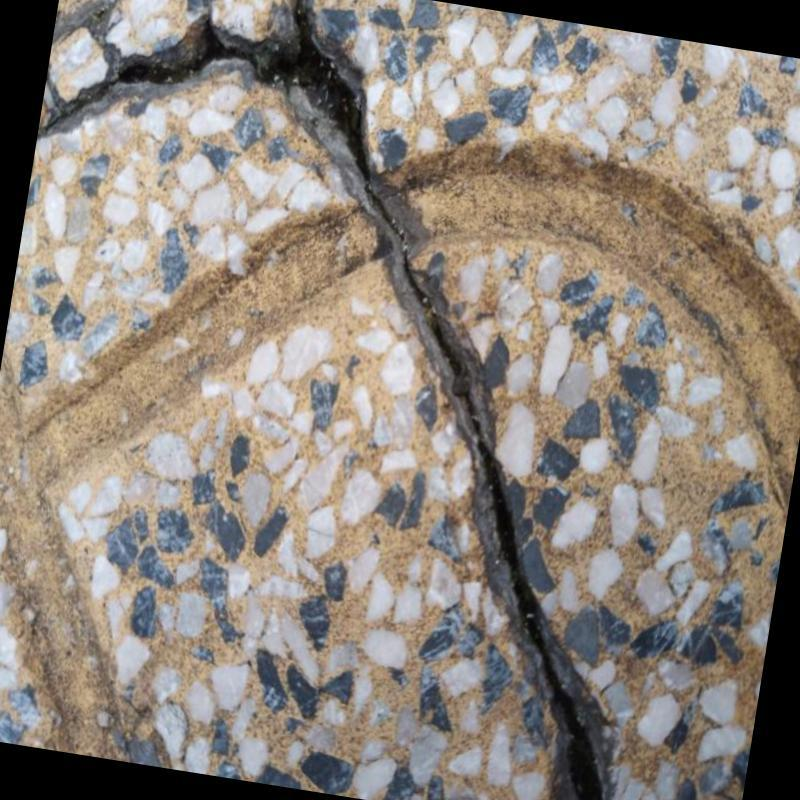pothole: (43, 0, 610, 800)
